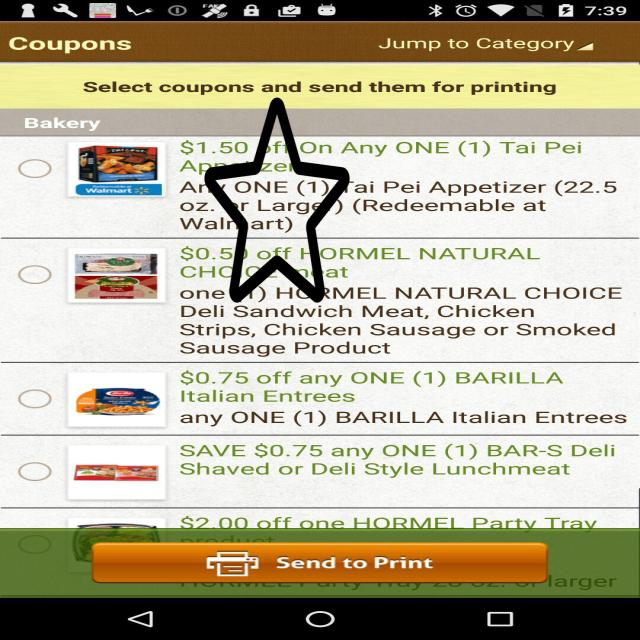forced continuity: (204, 93, 350, 307)
